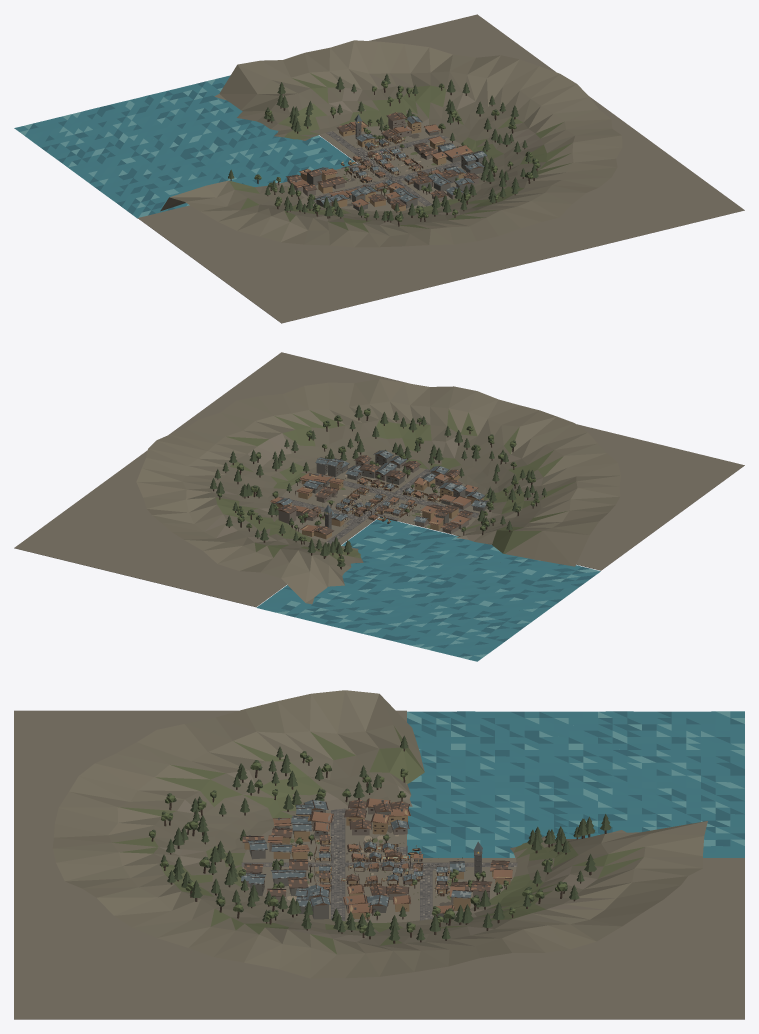
File: sikator.glb
The picture shows the model from 3 angles, top to bottom: view 1: azimuth 30°, elevation 25°; view 2: azimuth 150°, elevation 25°; view 3: azimuth 270°, elevation 25°; orthographic projection. The views are drawn at different scales.
Parts seen in each view (by area): view 1: batch_earth, batch_hill_far, batch_water, batch_hill, batch_scrub, batch_water_dark, batch_leaf_dark, batch_water_light, batch_wood_dark, batch_roof_rust, batch_slate_blue, batch_roof_umber (+9 smaller); view 2: batch_earth, batch_hill_far, batch_water, batch_hill, batch_scrub, batch_water_dark, batch_leaf_dark, batch_water_light, batch_wood_dark, batch_roof_rust, batch_slate_blue, batch_roof_umber (+9 smaller); view 3: batch_earth, batch_hill_far, batch_water, batch_hill, batch_scrub, batch_water_dark, batch_leaf_dark, batch_water_light, batch_roof_rust, batch_wood_dark, batch_slate_blue, batch_stone (+10 smaller).
Part boxes in pixels (box(x1,y1,x2,y2)): batch_earth: box(138, 14, 744, 323); batch_hill_far: box(160, 40, 622, 247); batch_water: box(14, 75, 357, 218); batch_hill: box(217, 69, 574, 235); batch_scrub: box(229, 73, 571, 232); batch_water_dark: box(29, 81, 353, 215); batch_leaf_dark: box(228, 74, 540, 220); batch_water_light: box(19, 79, 338, 217); batch_wood_dark: box(286, 112, 487, 207); batch_roof_rust: box(289, 112, 478, 206); batch_slate_blue: box(315, 114, 486, 204); batch_roof_umber: box(286, 112, 479, 206); batch_earth: box(14, 352, 744, 607); batch_hill_far: box(136, 379, 620, 604); batch_water: box(256, 517, 600, 661); batch_hill: box(183, 402, 576, 586); batch_scrub: box(215, 409, 575, 559); batch_water_dark: box(281, 521, 594, 656); batch_leaf_dark: box(210, 405, 547, 566); batch_water_light: box(276, 524, 600, 659); batch_wood_dark: box(270, 450, 489, 534); batch_roof_rust: box(270, 455, 478, 533); batch_slate_blue: box(275, 450, 487, 523); batch_roof_umber: box(277, 455, 473, 534); batch_earth: box(14, 710, 744, 1019); batch_hill_far: box(52, 690, 707, 978); batch_water: box(407, 711, 744, 857); batch_hill: box(109, 732, 649, 952); batch_scrub: box(112, 726, 644, 954); batch_water_dark: box(407, 711, 744, 857); batch_leaf_dark: box(150, 735, 611, 940); batch_water_light: box(407, 711, 744, 857); batch_roof_rust: box(242, 798, 512, 913); batch_wood_dark: box(241, 798, 511, 913); batch_slate_blue: box(241, 800, 482, 906); batch_stone: box(241, 801, 517, 920).
Bounding box in the file's own units: 120 × 8.59 × 120.
